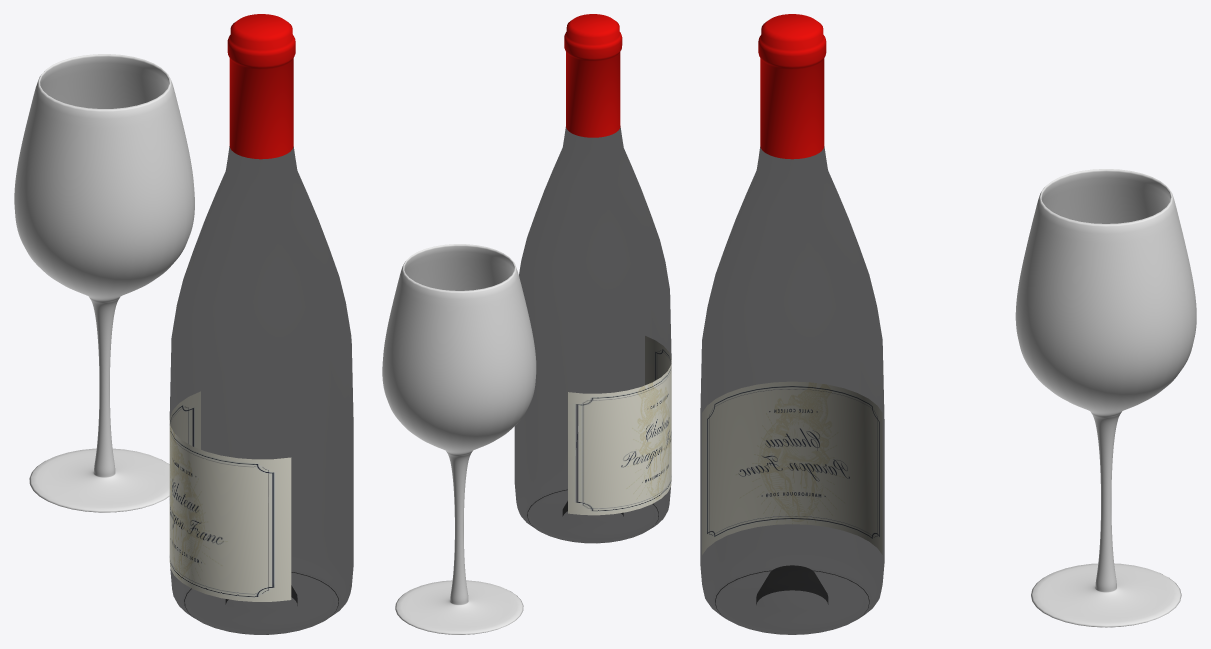
The model's file is wine-demo.glb.
3 renders of one model, left to right at view 1: azimuth 30°, elevation 25°; view 2: azimuth 150°, elevation 25°; view 3: azimuth 270°, elevation 25°, orthographic. The views are drawn at different scales.
Visible parts, largest first — view 1: Circle, NurbsPath; view 2: Circle, NurbsPath; view 3: Circle, NurbsPath.
Boxes of the visible parts, bbox=[...] form: Circle: bbox=[169, 14, 353, 634]; NurbsPath: bbox=[14, 54, 194, 512]; Circle: bbox=[514, 14, 671, 543]; NurbsPath: bbox=[382, 244, 536, 634]; Circle: bbox=[700, 14, 884, 634]; NurbsPath: bbox=[1015, 169, 1196, 627].
Size of the model in its own units: 1.42 by 4.94 by 3.83.
4 materials, 1 textured.
